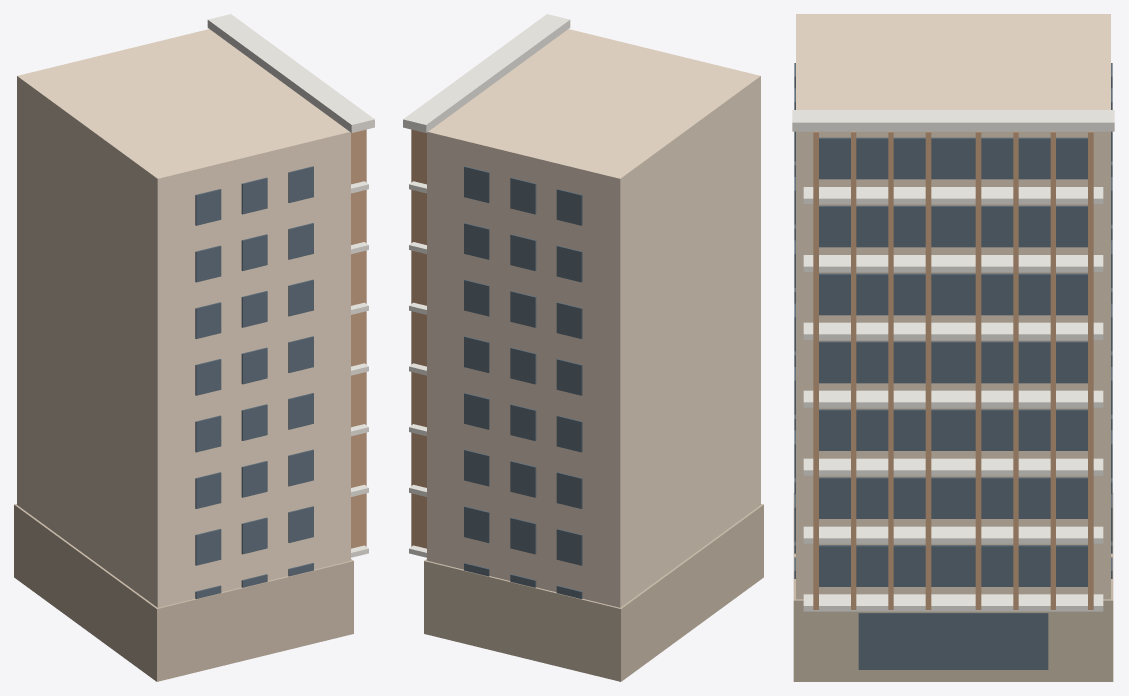
Rendered from rambla_building_11.glb.
3 views of the same model, side by side, from view 1: azimuth 30°, elevation 25°; view 2: azimuth 150°, elevation 25°; view 3: azimuth 270°, elevation 25° (orthographic). The views are drawn at different scales.
Visible parts, largest first — view 1: RamblaBuilding_11; view 2: RamblaBuilding_11; view 3: RamblaBuilding_11.
Part boxes in pixels (x1,y1,x2,y2): RamblaBuilding_11: [14, 14, 374, 681]; RamblaBuilding_11: [403, 14, 763, 681]; RamblaBuilding_11: [792, 14, 1114, 681].
Size of the model in its own units: 11.3 by 25.2 by 12.9.
